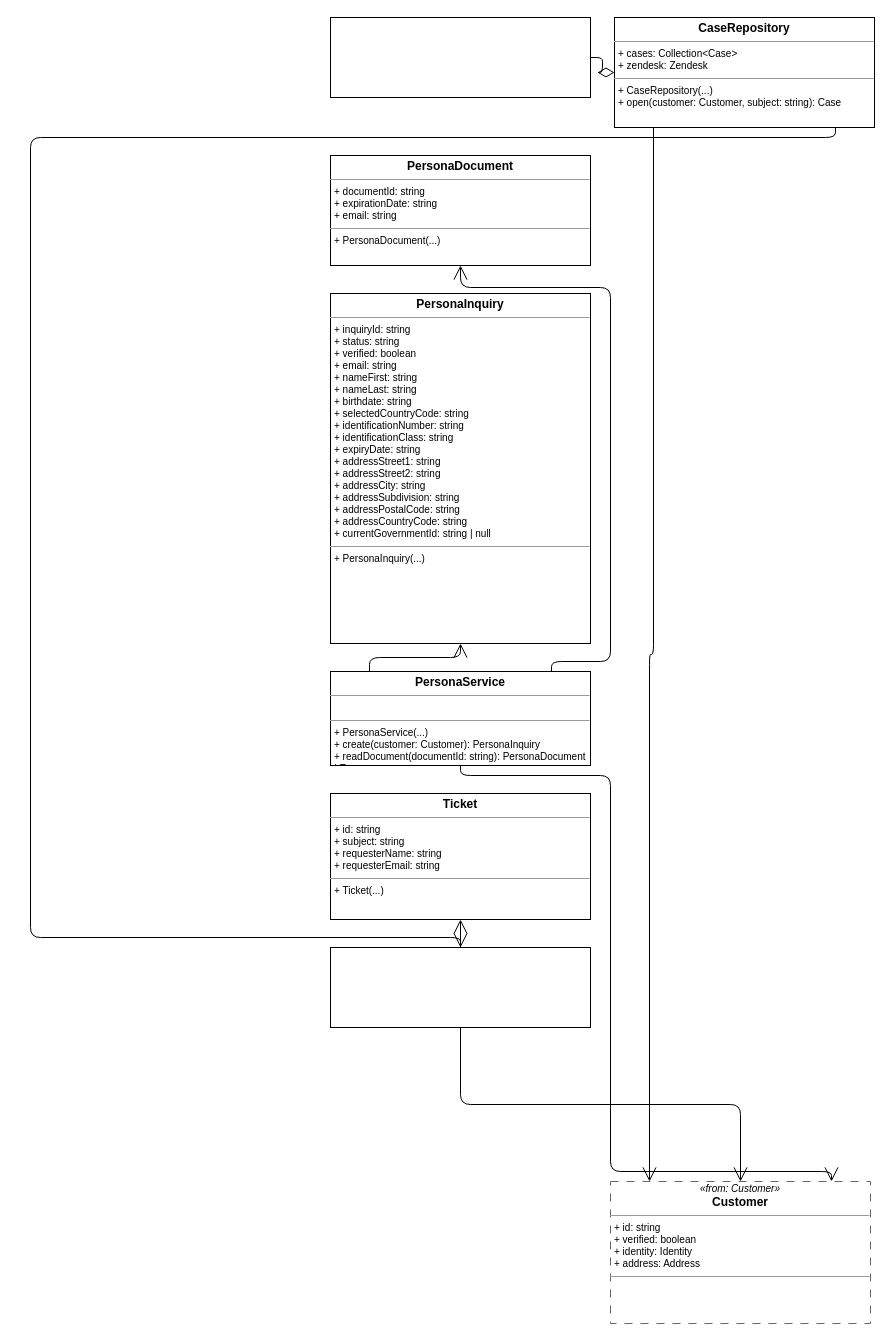
This 892x1341 diagram has some shape labels left out. Here are the shapes that lost their labels. From the top down, the centre of each, then its label:
the point at 460,57: Case + subject: string + Case(...)
the point at 460,987: Zendesk + Zendesk(...) + create(customer: Customer, subject: string): Ticket
